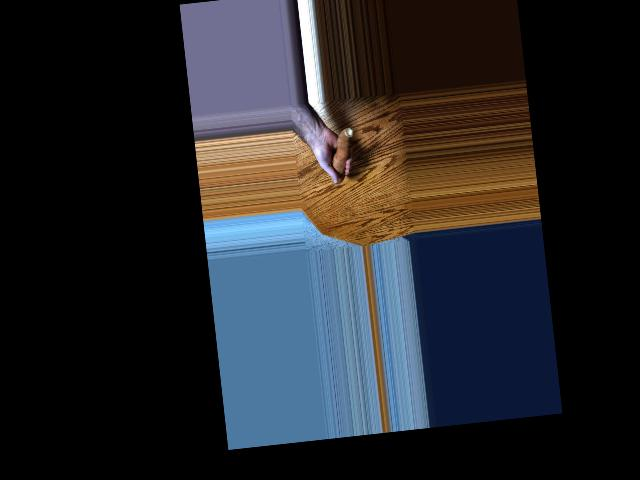sweet_potato: (327, 123, 358, 186)
